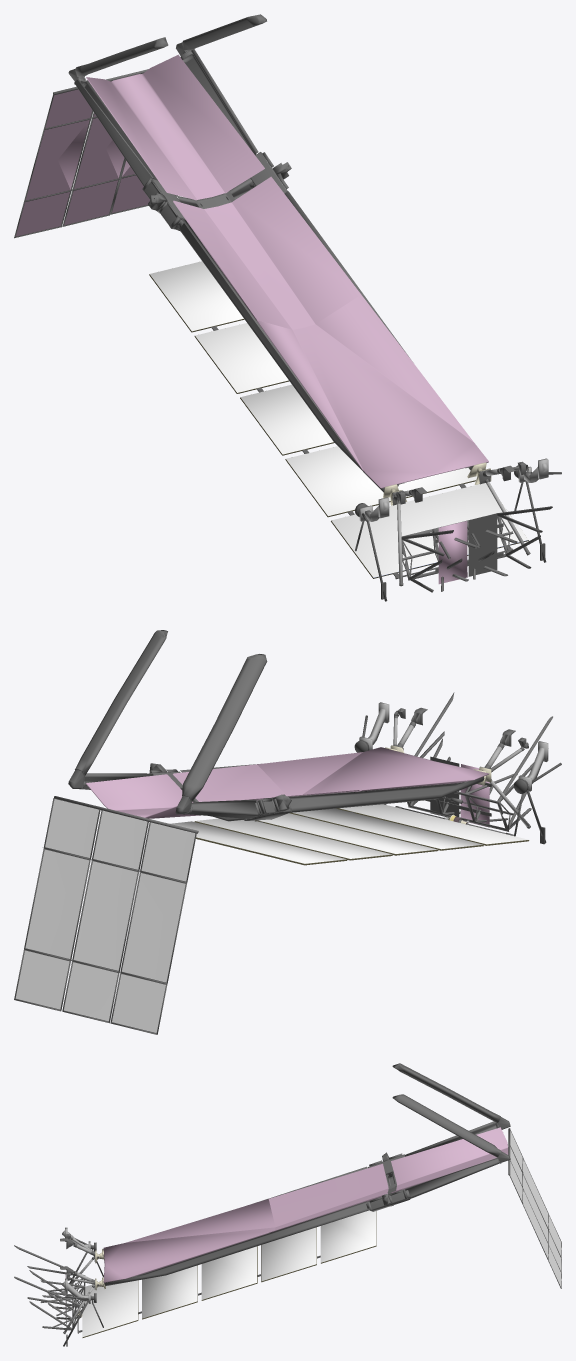
Rendered from solar_panels.gltf.
3 views of the same model, one above another, from view 1: azimuth 30°, elevation 25°; view 2: azimuth 150°, elevation 25°; view 3: azimuth 270°, elevation 25° (orthographic). The views are drawn at different scales.
Visible parts, largest first — view 1: Solar Panels; view 2: Solar Panels; view 3: Solar Panels.
Part boxes in pixels (x1=…): Solar Panels: x1=14, y1=14, x2=561, y2=601; Solar Panels: x1=14, y1=630, x2=561, y2=1034; Solar Panels: x1=14, y1=1063, x2=561, y2=1346.
Bounding box in the file's own units: 2.68 × 4.81 × 9.89.
